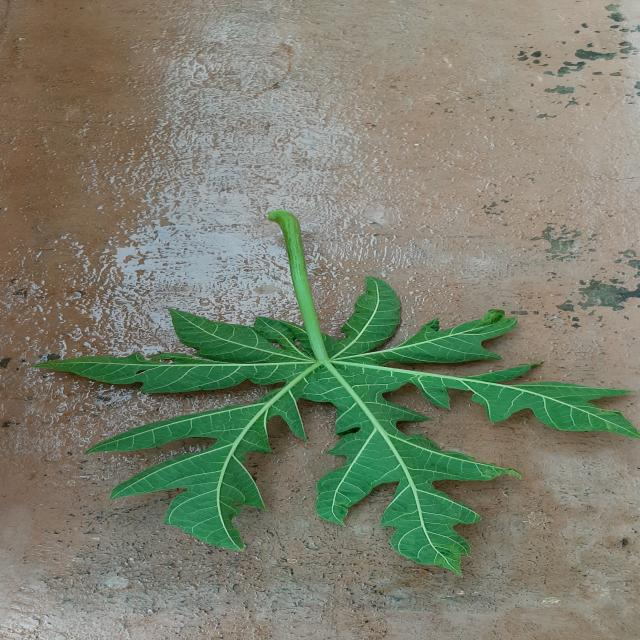papaya: (35, 210, 637, 572)
